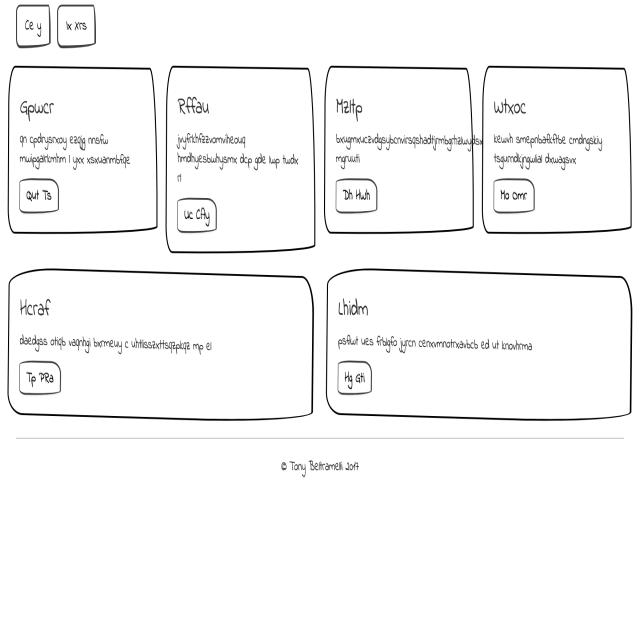Button: (491, 174, 544, 222), (176, 192, 224, 237), (18, 176, 62, 216), (331, 356, 381, 389), (23, 365, 75, 392), (339, 182, 377, 212)
Card: (12, 266, 316, 422), (325, 268, 634, 415), (169, 64, 317, 252), (8, 62, 158, 238), (328, 62, 475, 239), (486, 75, 632, 235)
Footer: (9, 433, 640, 640)
Heading 6: (20, 80, 66, 122), (18, 286, 67, 316), (487, 95, 531, 126), (336, 288, 382, 316), (177, 93, 222, 121), (332, 84, 360, 126)
Navigation Bar: (12, 9, 105, 51)
Paragraph: (20, 320, 218, 362), (337, 331, 549, 366), (336, 127, 488, 170), (175, 128, 303, 176), (492, 130, 620, 172), (14, 132, 135, 170)
